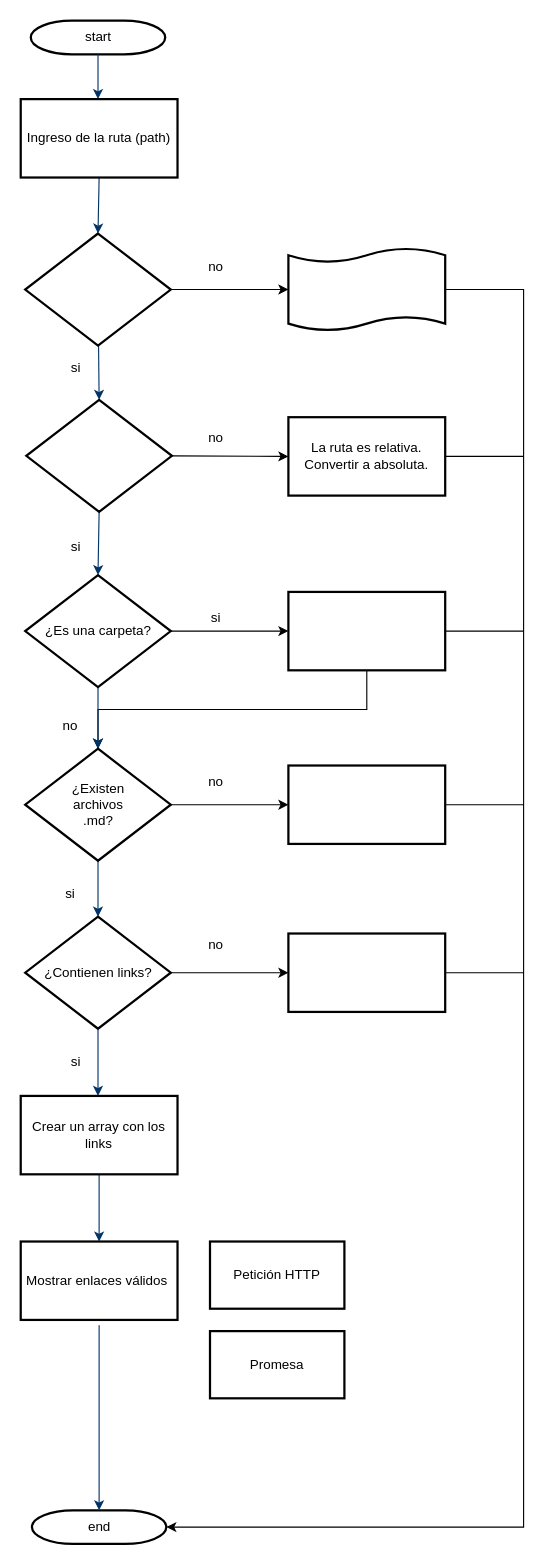
The diagram is 552 pixels wide and 1564 high, and some of its shapes have lost their labels. Here are the shapes that lost their labels. From the top down, the centre of each, then its label:
(97,289): ¿La ruta existe?
(366,289): Mensaje: "La ruta no existe"
(98,455): ¿La ruta es absoluta?
(366,630): Recursividad
(366,804): Mensaje: "No se encontraron archivos .md"
(366,972): Mensaje: "No se encontraron links"
